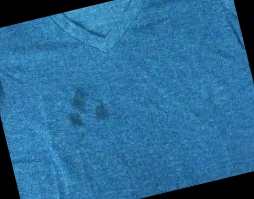oil: (62, 82, 114, 131)
